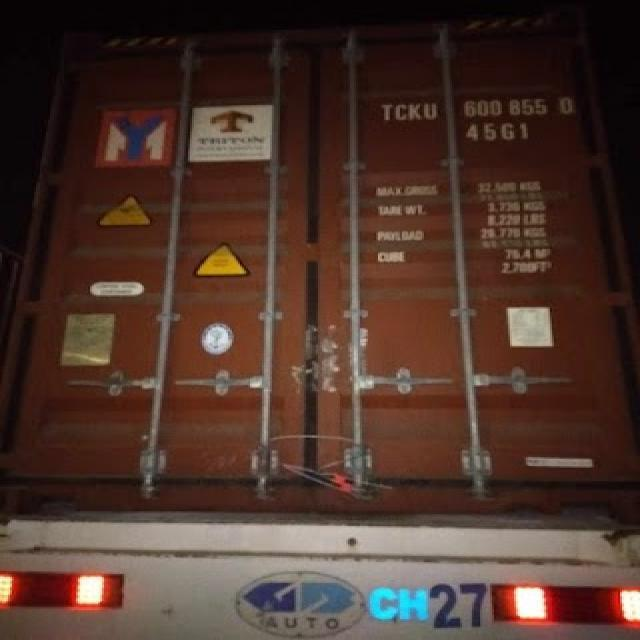ISO: (470, 122, 532, 142)
container_number: (384, 95, 572, 118)
